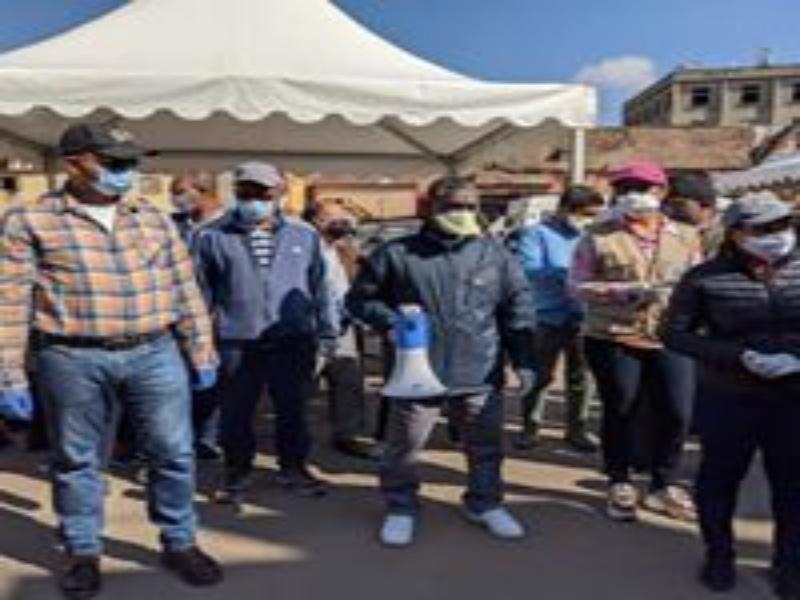ManaoArotava: (54, 116, 155, 212), (721, 191, 800, 277), (601, 159, 676, 233), (220, 161, 293, 235), (420, 173, 489, 245)
